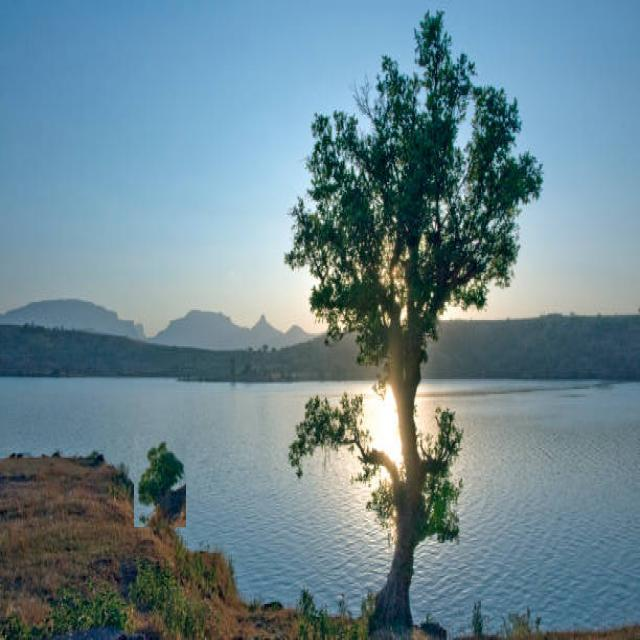tree: (282, 0, 538, 548), (134, 437, 186, 527)
